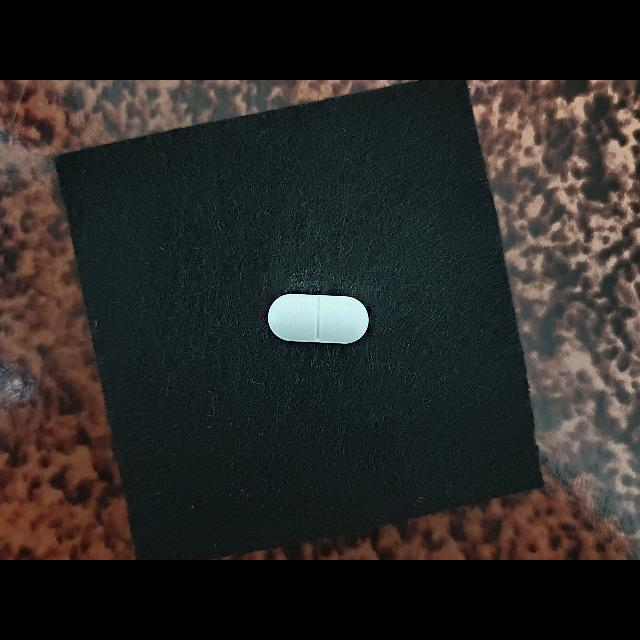Intact Pill: (268, 293, 369, 344)
